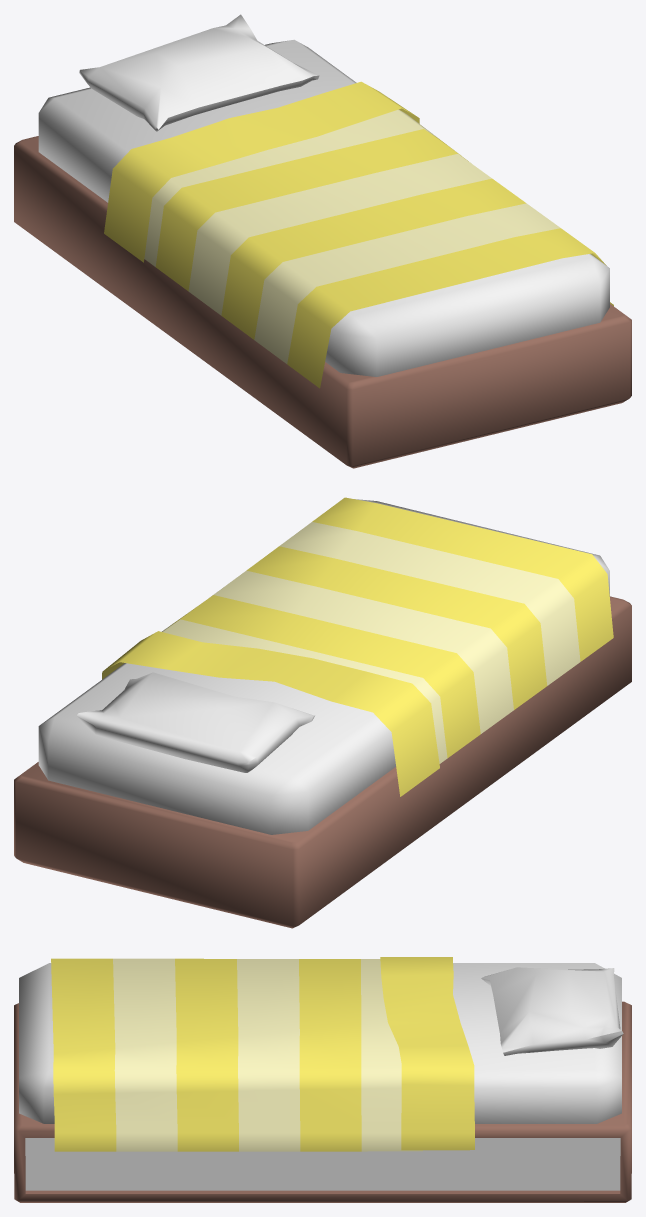
Rendered from bed_011.glb.
3 renders of one model, top to bottom at view 1: azimuth 30°, elevation 25°; view 2: azimuth 150°, elevation 25°; view 3: azimuth 270°, elevation 25°, orthographic. The views are drawn at different scales.
Visible parts, largest first — view 1: bed_011; view 2: bed_011; view 3: bed_011.
Part boxes in pixels (<box>): bed_011: <box>14,14,631,468</box>; bed_011: <box>14,497,631,928</box>; bed_011: <box>14,957,631,1202</box>.
Size of the model in its own units: 1.12 by 0.6228 by 2.21.
1 material, 1 textured.
